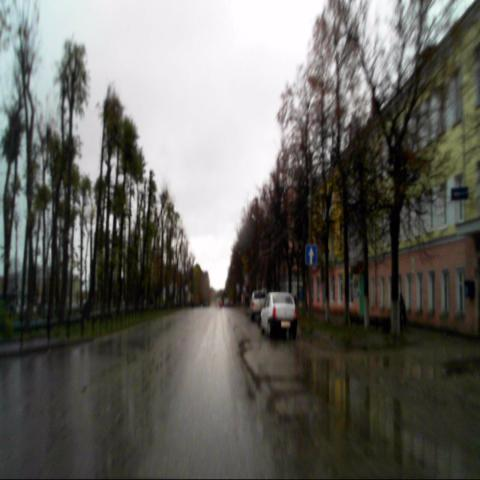5_5: (305, 244, 316, 265)
